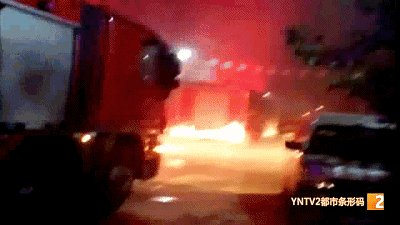fire: (169, 112, 294, 152)
